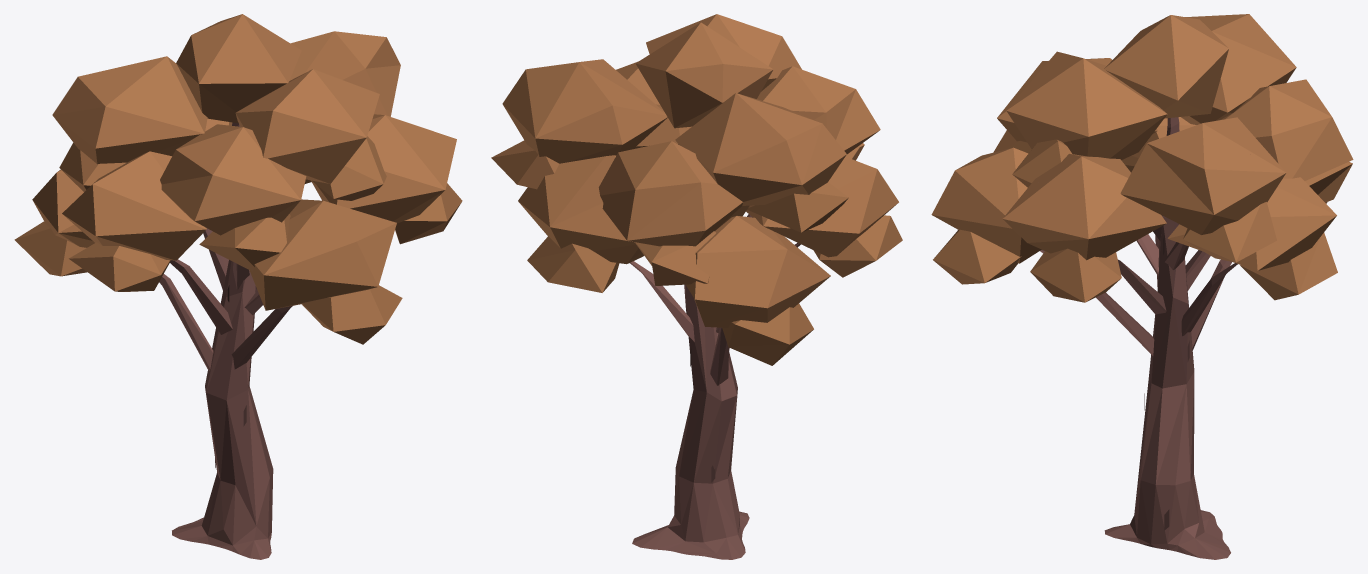
The model's file is cherry_wild_autumn.glb.
3 views of the same model, side by side, from view 1: azimuth 30°, elevation 25°; view 2: azimuth 150°, elevation 25°; view 3: azimuth 270°, elevation 25° (orthographic). The views are drawn at different scales.
Visible parts, largest first — view 1: leaves, branches; view 2: leaves, branches; view 3: leaves, branches.
Boxes of the visible parts, x1,y1,x2,y2 form: leaves: (14, 14, 462, 344); branches: (159, 122, 292, 559); leaves: (491, 14, 902, 365); branches: (630, 214, 800, 559); leaves: (931, 14, 1353, 302); branches: (1040, 117, 1237, 559).
Size of the model in its own units: 3.31 by 4.6 by 3.37.
